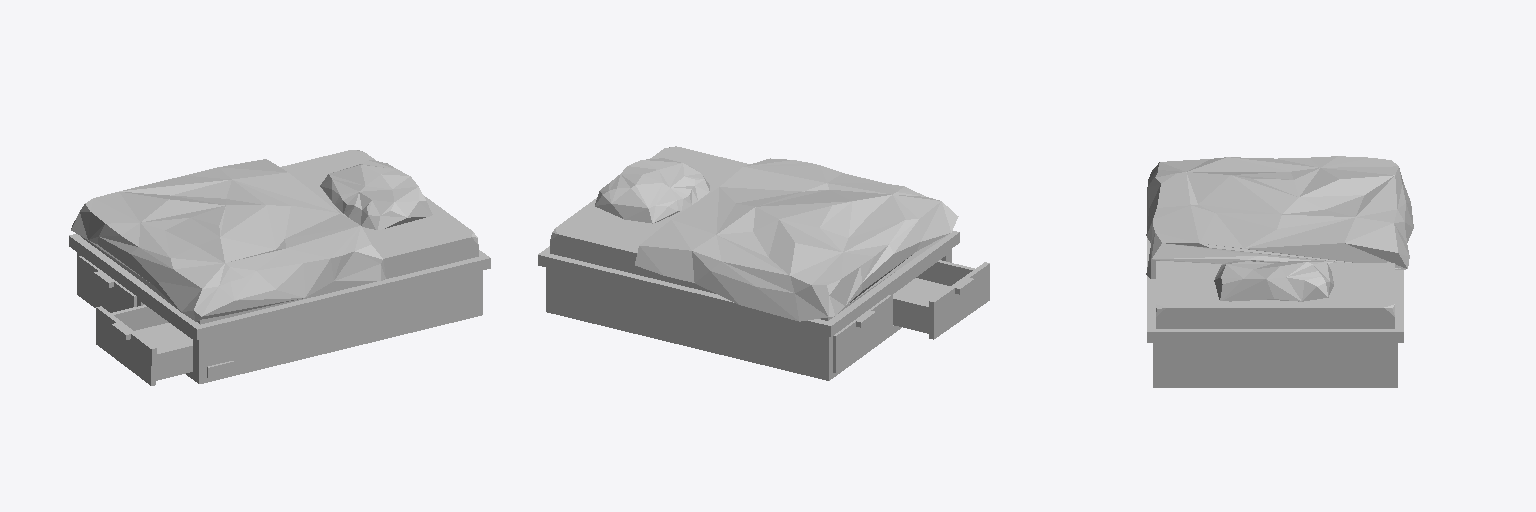
File: bed.obj
3 views of the same model, side by side, from view 1: azimuth 30°, elevation 25°; view 2: azimuth 150°, elevation 25°; view 3: azimuth 270°, elevation 25° (orthographic).
Visible parts, largest first — view 1: group[number redacted], group[number redacted], group[number redacted], group[number redacted], group[number redacted], group[number redacted], group[number redacted]; view 2: group[number redacted], group[number redacted], group[number redacted], group[number redacted], group[number redacted], group[number redacted], group[number redacted]; view 3: group[number redacted], group[number redacted], group[number redacted], group[number redacted], group[number redacted].
Part boxes in pixels (left/top/right/bottom): group[number redacted]: left=71, top=159, right=385, bottom=321; group[number redacted]: left=77, top=253, right=482, bottom=383; group[number redacted]: left=81, top=150, right=478, bottom=324; group[number redacted]: left=69, top=234, right=490, bottom=339; group[number redacted]: left=96, top=305, right=192, bottom=385; group[number redacted]: left=320, top=160, right=432, bottom=229; group[number redacted]: left=79, top=256, right=136, bottom=312; group[number redacted]: left=635, top=158, right=958, bottom=321; group[number redacted]: left=546, top=249, right=951, bottom=380; group[number redacted]: left=550, top=146, right=894, bottom=320; group[number redacted]: left=538, top=231, right=959, bottom=336; group[number redacted]: left=893, top=260, right=989, bottom=339; group[number redacted]: left=595, top=158, right=709, bottom=223; group[number redacted]: left=833, top=295, right=890, bottom=372; group[number redacted]: left=1146, top=156, right=1413, bottom=278; group[number redacted]: left=1156, top=261, right=1394, bottom=328; group[number redacted]: left=1153, top=343, right=1397, bottom=387; group[number redacted]: left=1147, top=238, right=1403, bottom=342; group[number redacted]: left=1214, top=261, right=1333, bottom=301.
Bounding box in the file's own units: 0.665 × 0.1988 × 0.4584.